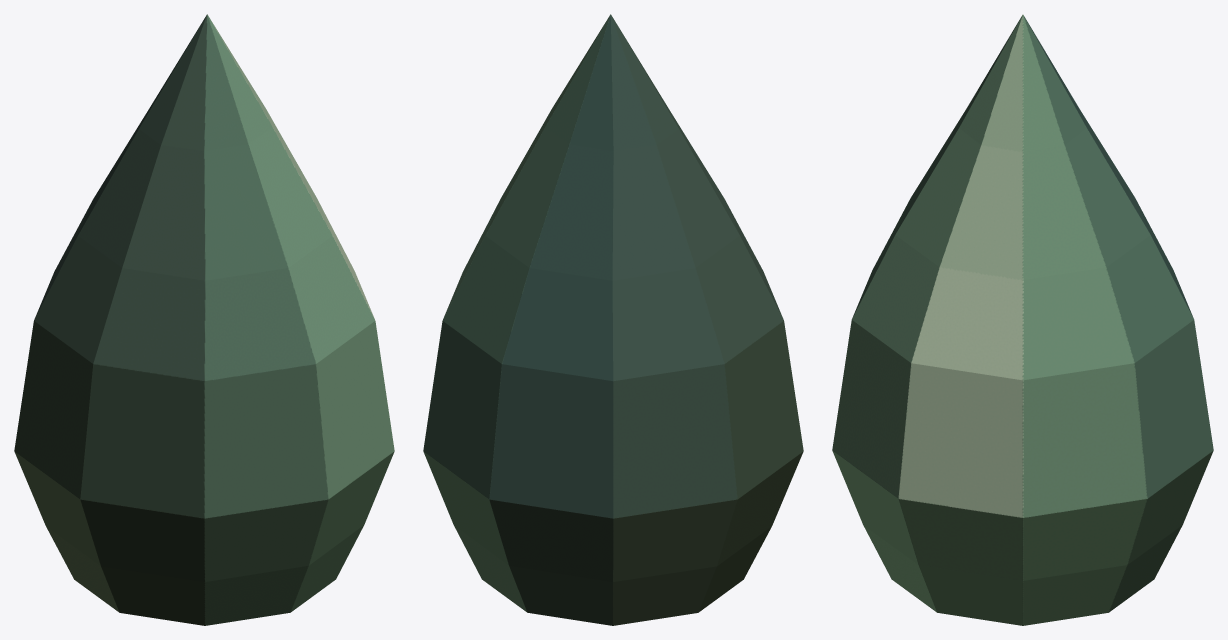
File: Cepha1.obj
3 renders of one model, left to right at view 1: azimuth 30°, elevation 25°; view 2: azimuth 150°, elevation 25°; view 3: azimuth 270°, elevation 25°, orthographic.
Parts seen in each view (by area): view 1: Cepha1; view 2: Cepha1; view 3: Cepha1.
Boxes of the visible parts, x1,y1,x2,y2 form: Cepha1: (14, 14, 394, 625); Cepha1: (423, 14, 803, 625); Cepha1: (832, 14, 1213, 625).
Size of the model in its own units: 4.59 by 7.86 by 4.66.
Materials: 1 (1 with a texture image).
